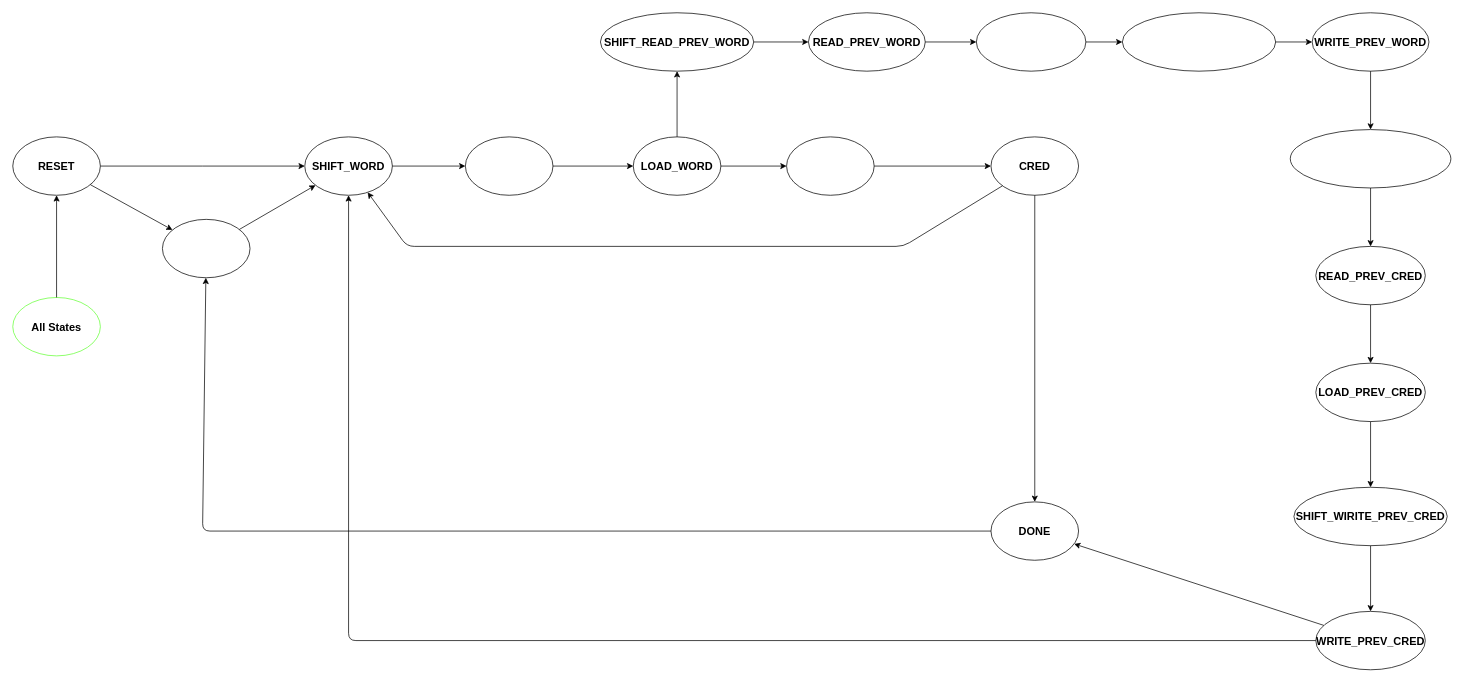
Some shapes in this 1464 by 683 pixel diagram are drawn without their labels. The shapes that lost their labels are listed below. From the top down, each one's centre as x and y in pixels, then its label:
point (1031, 41): LOAD_PREV_WORD
point (1199, 41): SHIFT_WRITE_PREV_WORD
point (509, 165): READ_WORD
point (830, 165): SHIFT_CRED
point (1370, 158): SHIFT_READ_PREV_CRED
point (206, 248): WAITING
